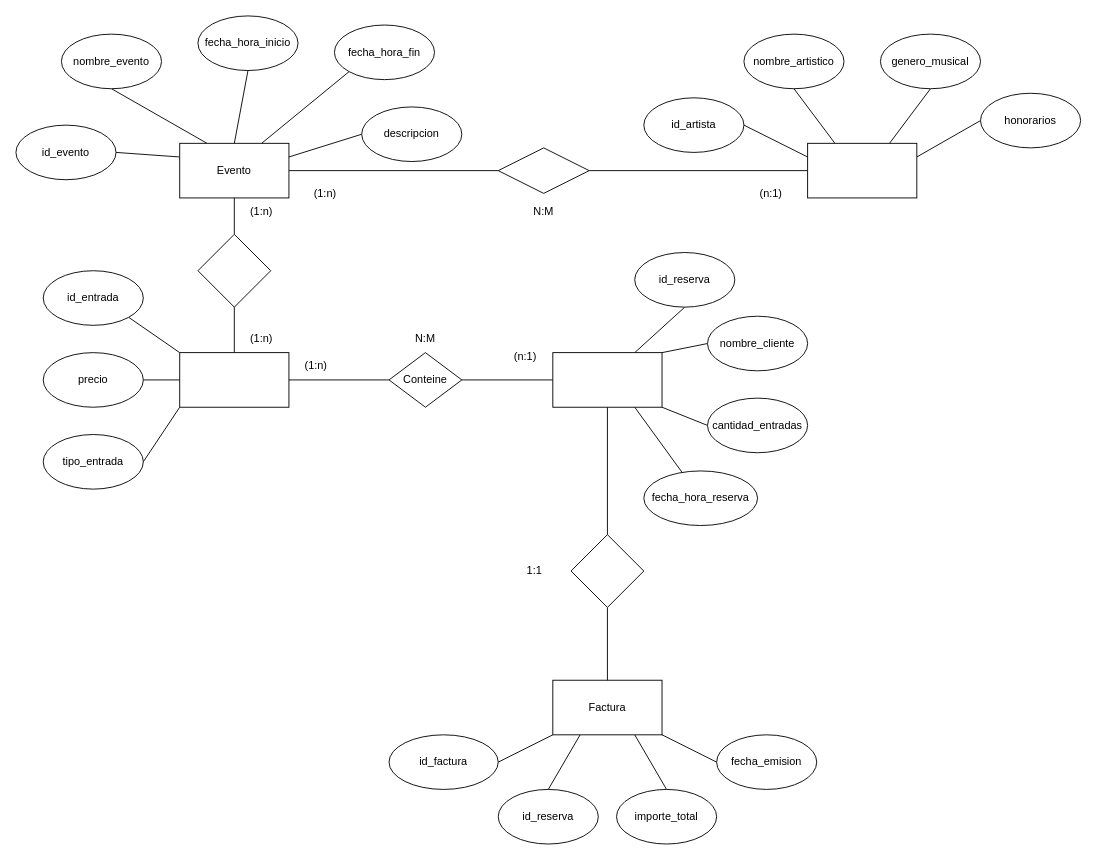
The diagram is 1097 pixels wide and 860 high, and some of its shapes have lost their labels. The shapes that lost their labels are listed below. From the top down, each one's centre as x and y in pixels, then its label:
the point at 543,170: Participa
the point at 862,170: Artista
the point at 234,270: Pertenece a
the point at 234,379: Entrada
the point at 607,379: Reserva
the point at 607,570: Genera
